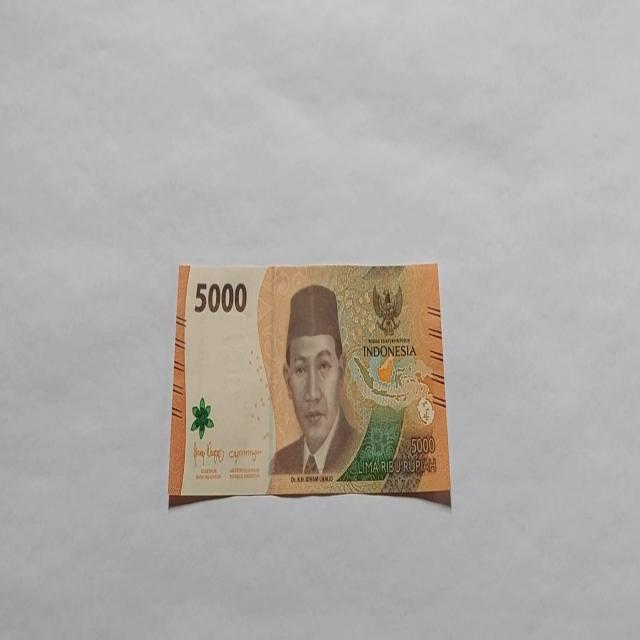lima ribu rupiah: (168, 261, 452, 508), (266, 283, 364, 481)
